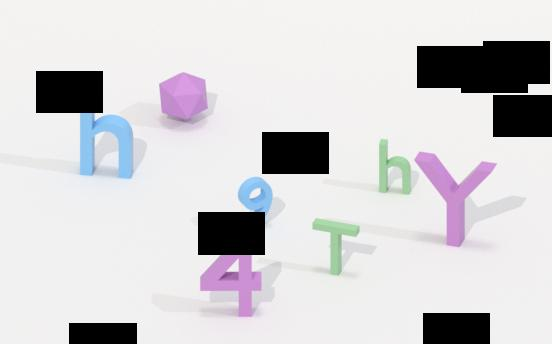4: (194, 224, 266, 320)
9: (235, 175, 274, 232)
Y-hoa: (411, 145, 498, 253)
dagiac: (156, 71, 211, 123)
h: (74, 82, 141, 186), (376, 134, 414, 203)
t-hoa: (310, 210, 365, 279)
